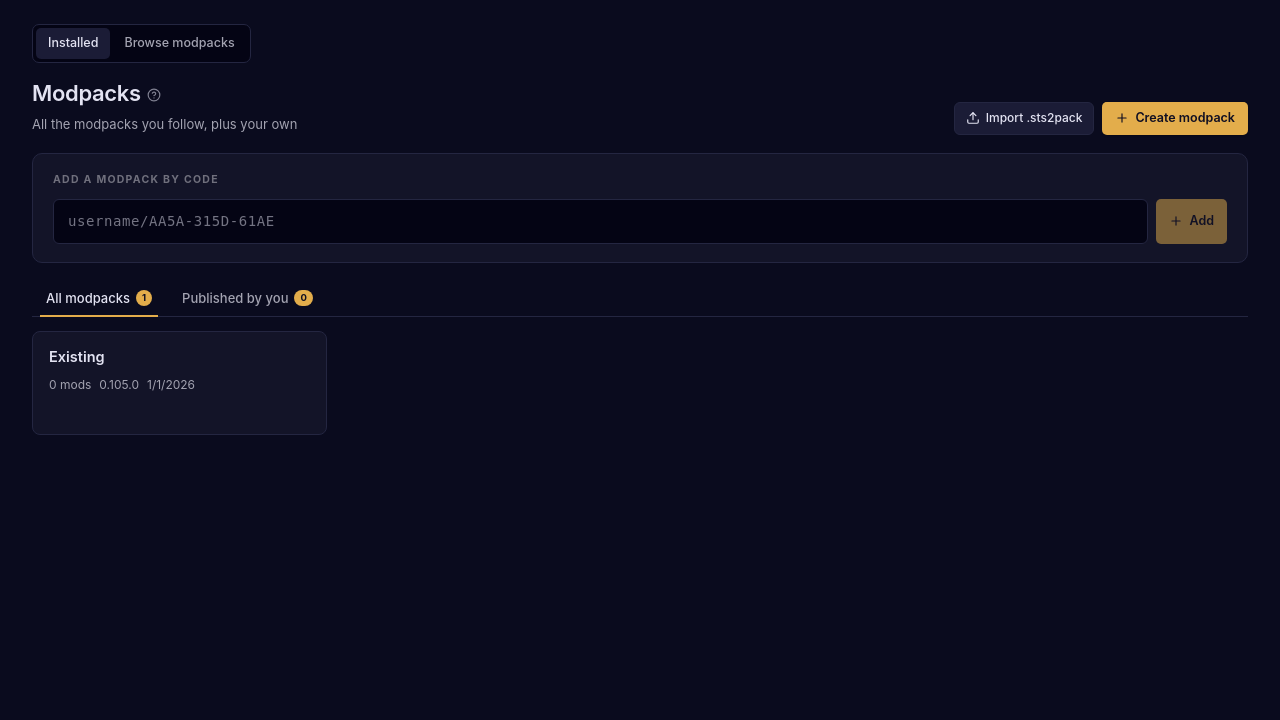
<ProfilesView> › Create modpack button opens the guided wizard
Expected: the text "Existing" is shown, [49,346,105,368]
Click the button "Create modpack".
click(1175, 118)  # box [1102,102,1248,135]
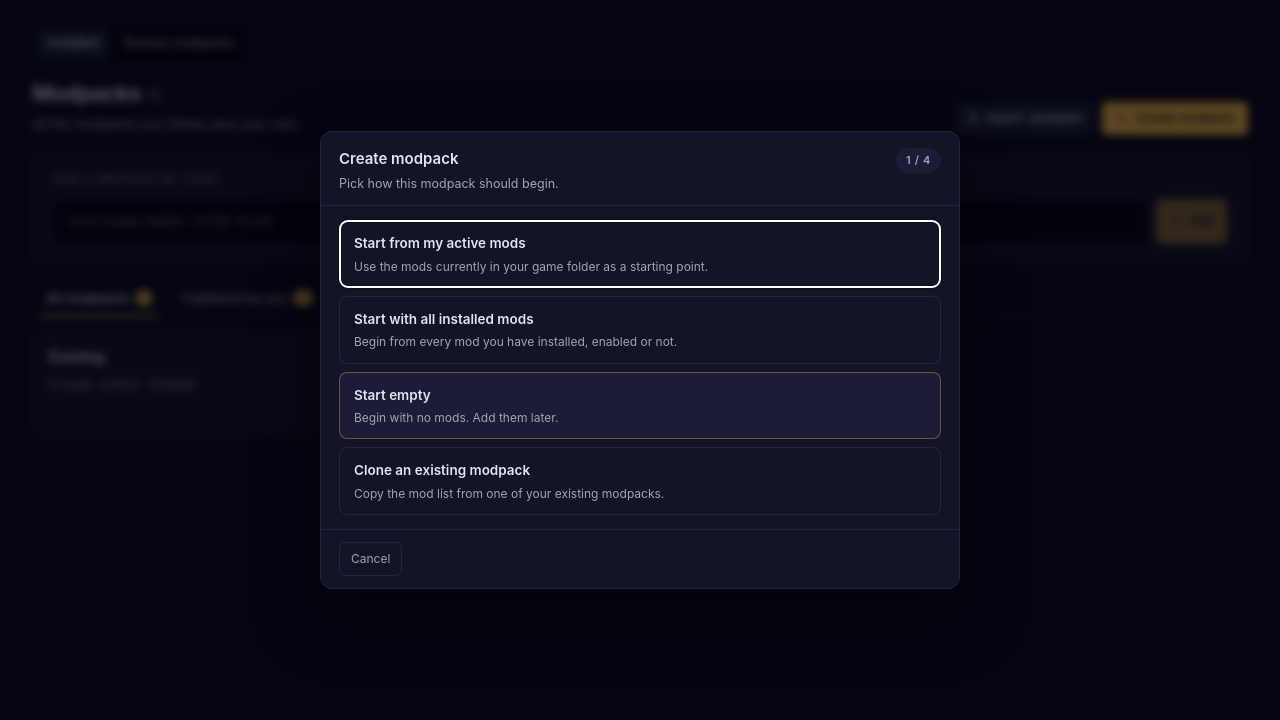
Expected: the button "Start from my active mods" is shown, [339,220,941,288]
